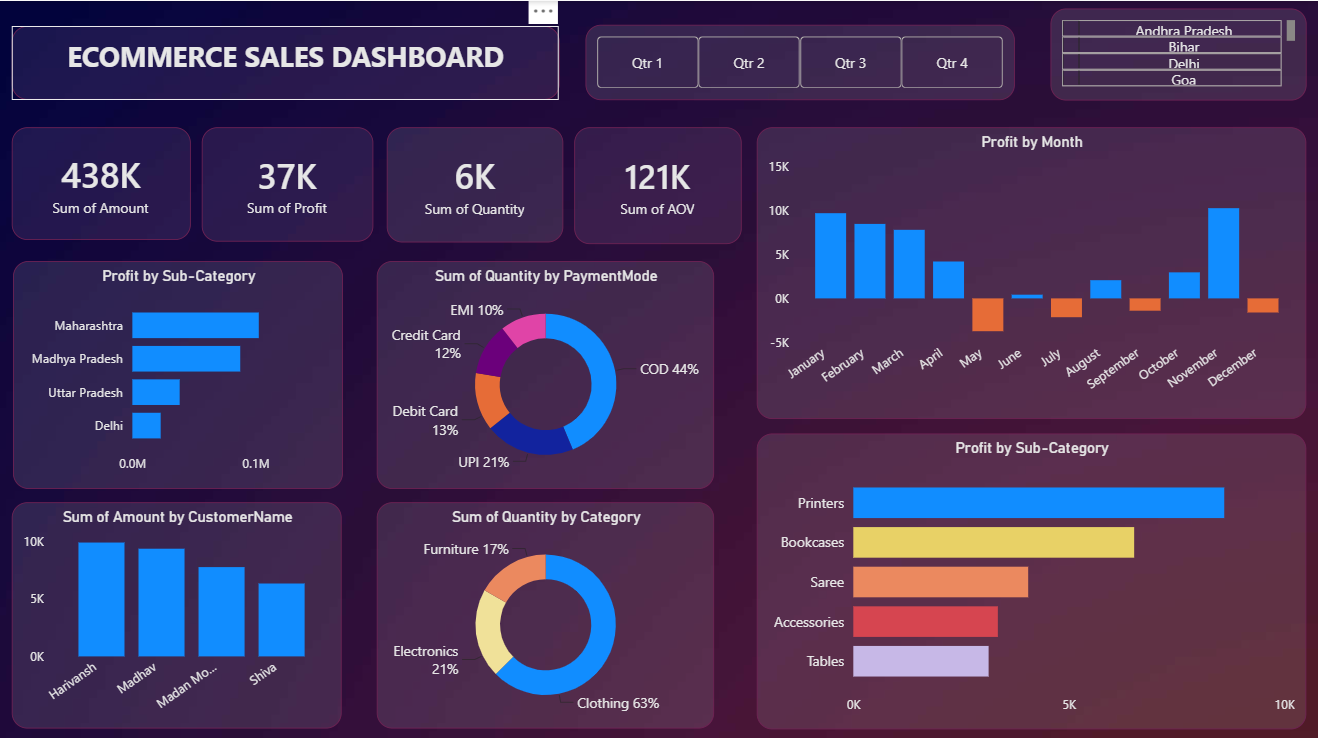

This screenshot's page, from the dashboard's own definition file:
{"tool":"powerbi","page":{"name":"Page 1","canvas":[1280,720],"ordinal":0},"visuals":[{"type":"textbox","box":[12.9,24.3,528.6,71.4],"z":0},{"type":"columnChart","title":"Profit by Month","fields":{"Category":["Orders_table_powerbi.Order Date.Variation.Date Hierarchy.Month"],"Y":["Sum(Details_table_powerbi.Profit)"]},"box":[732.9,121.4,530,281.4],"z":1000},{"type":"barChart","title":"Profit by Sub-Category","fields":{"Category":["Details_table_powerbi.Sub-Category"],"Y":["Sum(Details_table_powerbi.Profit)"]},"box":[732.9,417.1,530,285.7],"z":2000},{"type":"donutChart","fields":{"Category":["Details_table_powerbi.Category"],"Y":["Sum(Details_table_powerbi.Quantity)"]},"box":[365.7,484.3,325.7,218.6],"z":3000},{"type":"donutChart","fields":{"Y":["Sum(Details_table_powerbi.Quantity)"],"Category":["Details_table_powerbi.PaymentMode"]},"box":[365.7,251.4,325.7,220],"z":4000},{"type":"cardVisual","fields":{"Data":["Sum(Details_table_powerbi.Amount)"]},"box":[12.9,121.4,172.9,108.6],"z":5000},{"type":"cardVisual","fields":{"Data":["Sum(Details_table_powerbi.Profit)"]},"box":[197.1,121.4,165.7,110],"z":6000},{"type":"cardVisual","fields":{"Data":["Sum(Details_table_powerbi.Quantity)"]},"box":[375.7,121.4,170,111.4],"z":7000},{"type":"cardVisual","fields":{"Data":["Sum(Details_table_powerbi.AOV)"]},"box":[555.7,121.4,161.4,112.9],"z":8000},{"type":"barChart","title":"Profit by Sub-Category","fields":{"Category":["Orders_table_powerbi.State"],"Y":["Sum(Details_table_powerbi.Amount)"]},"box":[14.3,251.4,318.6,220],"z":9000},{"type":"columnChart","fields":{"Category":["Orders_table_powerbi.CustomerName"],"Y":["Sum(Details_table_powerbi.Amount)"]},"box":[12.9,484.3,318.6,218.6],"z":10000},{"type":"advancedSlicerVisual","fields":{"Values":["Orders_table_powerbi.Order Date.Variation.Date Hierarchy.Quarter"]},"box":[567.1,22.9,414.3,72.9],"z":11000},{"type":"listSlicer","fields":{"Values":["Orders_table_powerbi.State"]},"box":[1015.7,7.1,247.1,88.6],"z":12000}]}

Visuals, with their boxes in screenshot pixels (x1, y1, x2, y2), scaled from the page's 1280x720 canvas onto the 1318x738 screenshot:
textbox: detection(13, 25, 558, 98)
"Profit by Month" columnChart: detection(755, 124, 1300, 413)
"Profit by Sub-Category" barChart: detection(755, 428, 1300, 720)
donutChart - Details_table_powerbi.Category x Sum(Details_table_powerbi.Quantity): detection(377, 496, 712, 720)
donutChart - Sum(Details_table_powerbi.Quantity) x Details_table_powerbi.PaymentMode: detection(377, 258, 712, 483)
cardVisual - Sum(Details_table_powerbi.Amount): detection(13, 124, 191, 236)
cardVisual - Sum(Details_table_powerbi.Profit): detection(203, 124, 374, 237)
cardVisual - Sum(Details_table_powerbi.Quantity): detection(387, 124, 562, 239)
cardVisual - Sum(Details_table_powerbi.AOV): detection(572, 124, 738, 240)
"Profit by Sub-Category" barChart: detection(15, 258, 343, 483)
columnChart - Orders_table_powerbi.CustomerName x Sum(Details_table_powerbi.Amount): detection(13, 496, 341, 720)
advancedSlicerVisual - Orders_table_powerbi.Order Date.Variation.Date Hierarchy.Quarter: detection(584, 23, 1011, 98)
listSlicer - Orders_table_powerbi.State: detection(1046, 7, 1300, 98)
